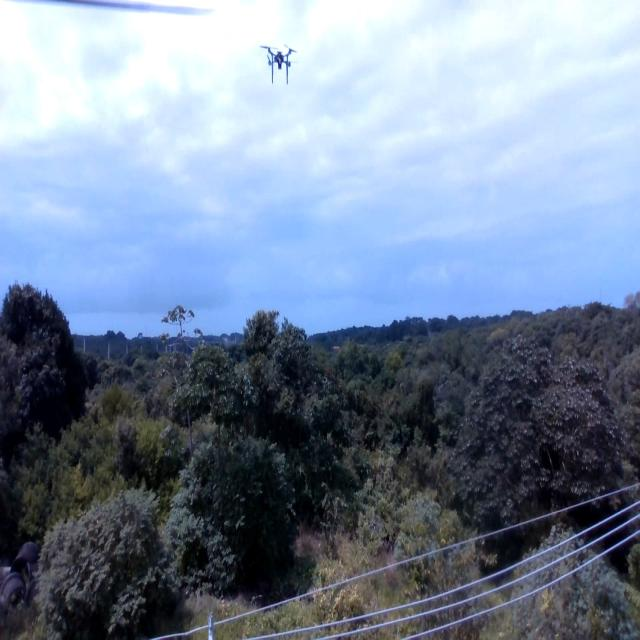-uav-: (255, 36, 304, 97)
